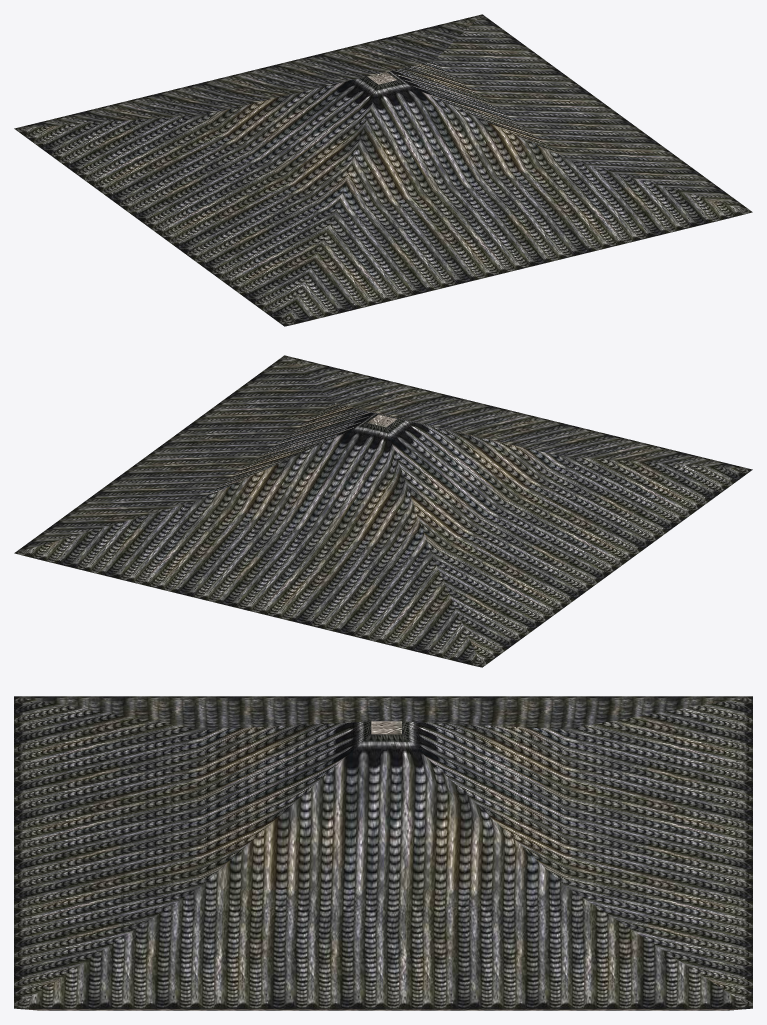
3 views of the same model, one above another, from view 1: azimuth 30°, elevation 25°; view 2: azimuth 150°, elevation 25°; view 3: azimuth 270°, elevation 25° (orthographic). The views are drawn at different scales.
Visible parts, largest first — view 1: Object77; view 2: Object77; view 3: Object77.
Part boxes in pixels (left/top/right/bottom): Object77: left=14, top=14, right=752, bottom=326; Object77: left=14, top=355, right=752, bottom=667; Object77: left=14, top=696, right=752, bottom=1010.
Size of the model in its own units: 359 by 87.93 by 359.
